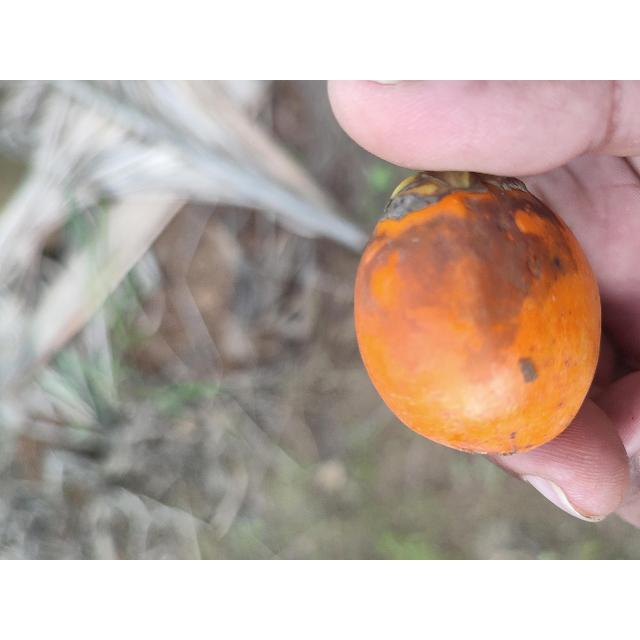good: (352, 171, 603, 458)
